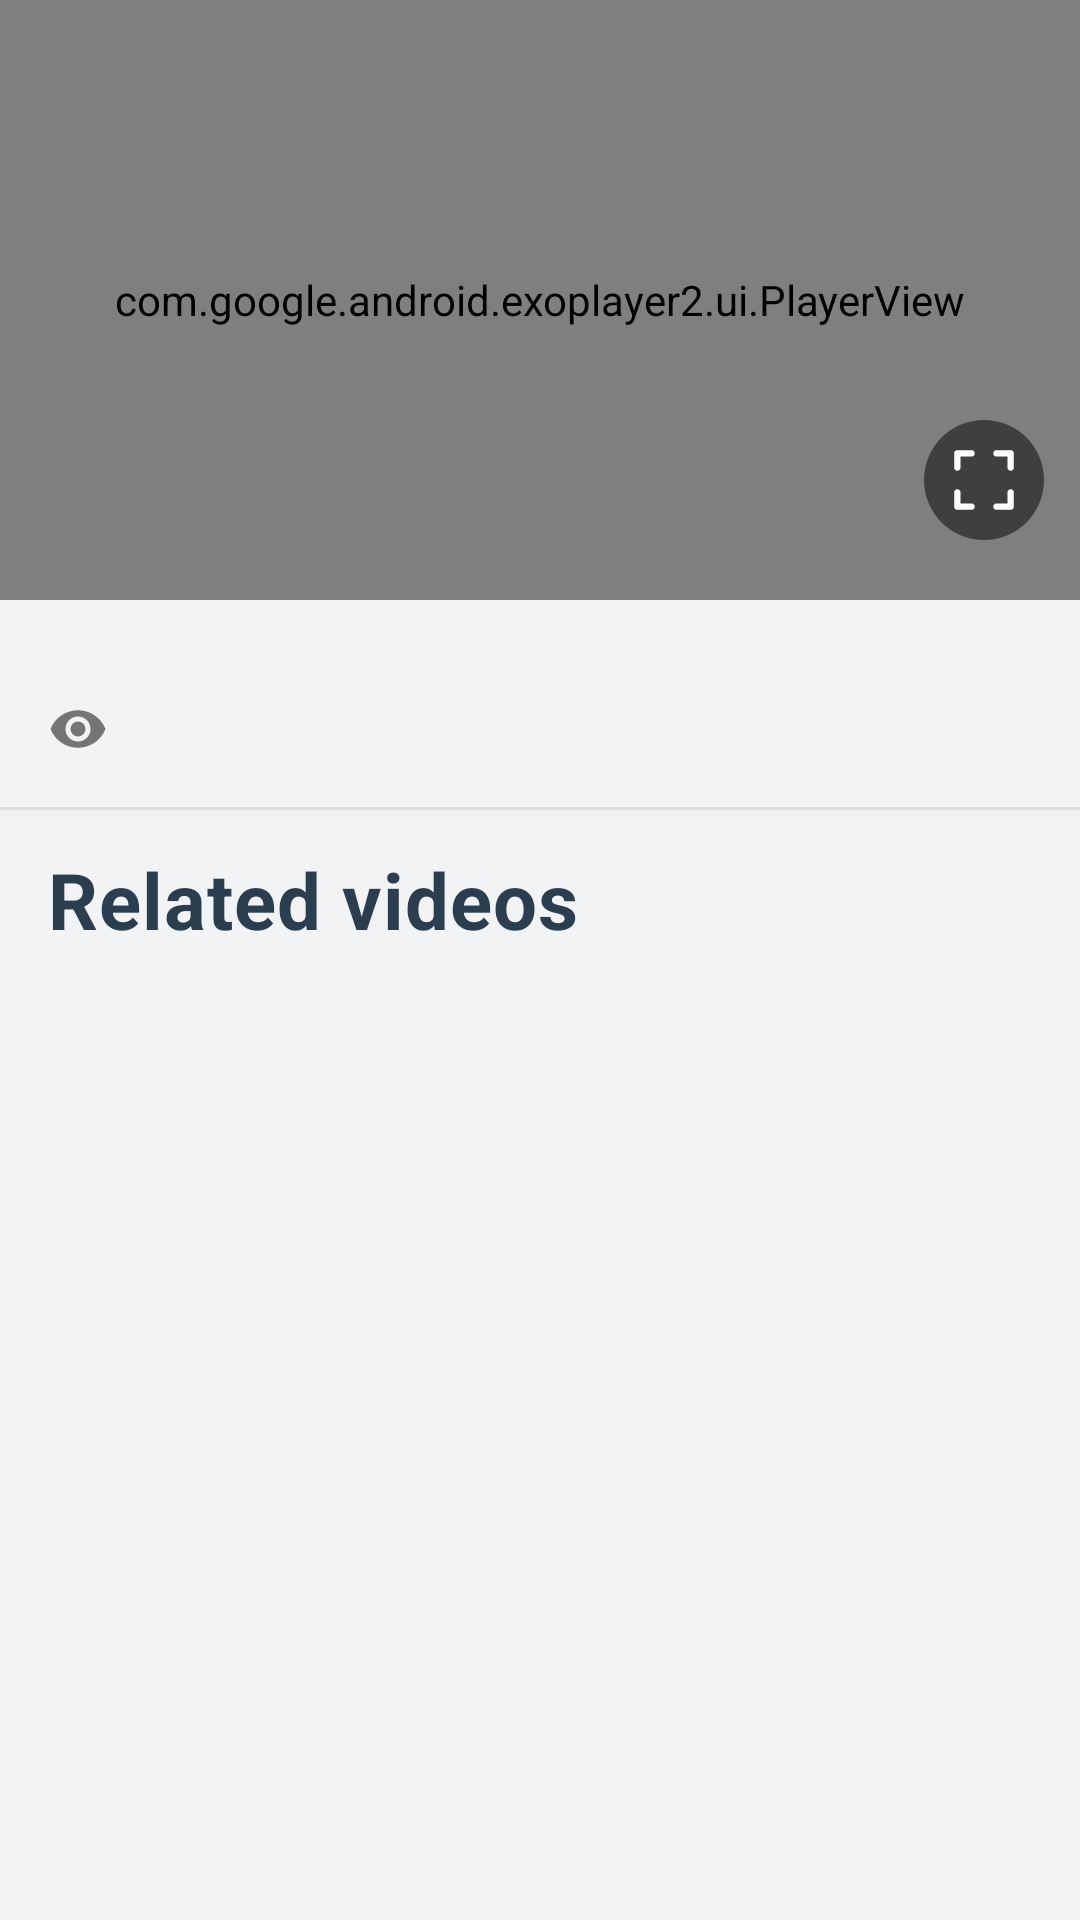

Icons on this 1080*1920 Android screen, each with its box as Rect(x1, y1, x2, y2):
player full screen: Rect(924, 420, 1044, 540)
